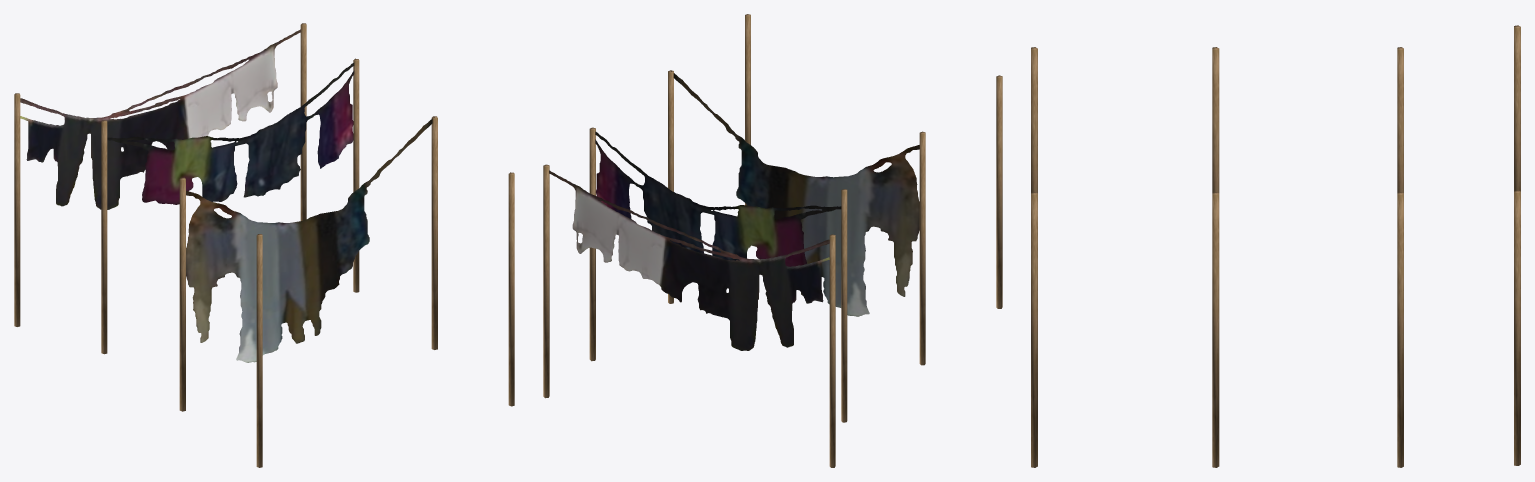
File: Clothings.fbx
3 views of the same model, side by side, from view 1: azimuth 30°, elevation 25°; view 2: azimuth 150°, elevation 25°; view 3: azimuth 270°, elevation 25° (orthographic). The views are drawn at different scales.
Parts seen in each view (by area): view 1: Clothings, Clothings_02, Clothings_01, Clothings Empty; view 2: Clothings_02, Clothings, Clothings_01, Clothings Empty; view 3: Clothings, Clothings_02, Clothings_01, Clothings Empty.
Part boxes in pixels (x1,y1,x2,y2): Clothings: (179, 116, 437, 411); Clothings_02: (14, 23, 306, 326); Clothings_01: (101, 58, 359, 354); Clothings Empty: (256, 172, 514, 467); Clothings_02: (543, 164, 835, 467); Clothings: (668, 70, 925, 365); Clothings_01: (589, 127, 847, 422); Clothings Empty: (745, 14, 1002, 308); Clothings: (1212, 47, 1219, 467); Clothings_02: (1514, 25, 1520, 465); Clothings_01: (1397, 47, 1403, 467); Clothings Empty: (1031, 47, 1037, 467).
Size of the model in its own units: 264 by 207 by 322.
Materials: 2 (2 with a texture image).
